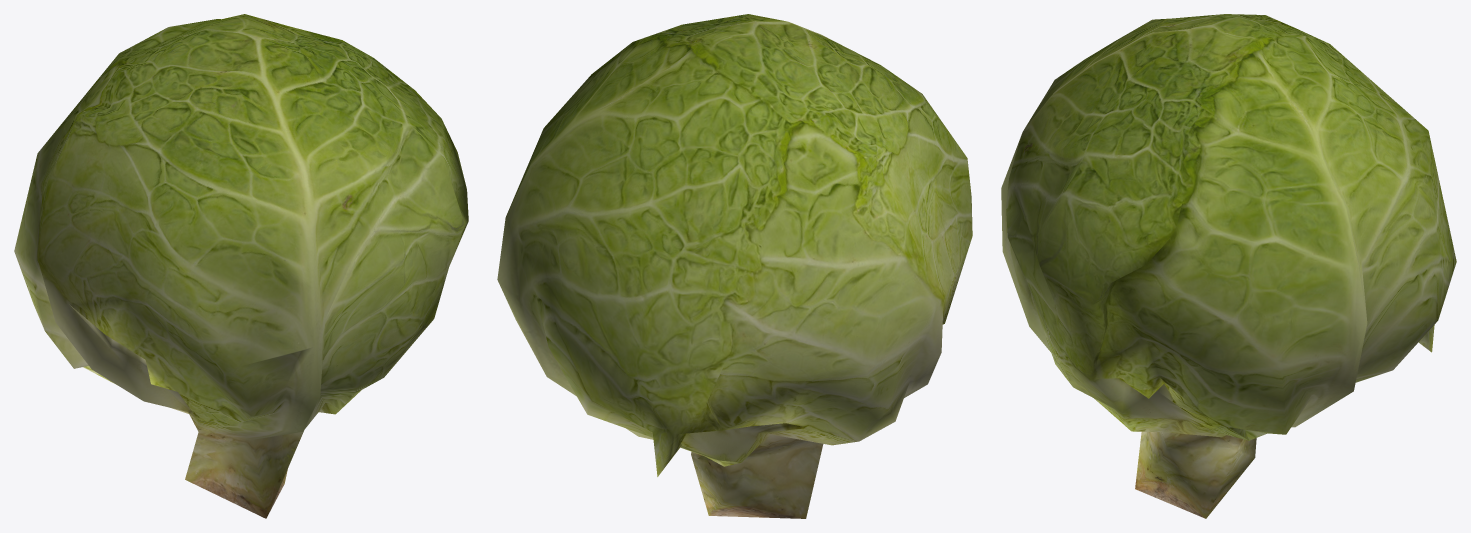
File: cabbage.glb
The picture shows the model from 3 angles, left to right: view 1: azimuth 30°, elevation 25°; view 2: azimuth 150°, elevation 25°; view 3: azimuth 270°, elevation 25°; orthographic projection. The views are drawn at different scales.
Parts seen in each view (by area): view 1: tgrmacdpa_LOD0_TIER3_000; view 2: tgrmacdpa_LOD0_TIER3_000; view 3: tgrmacdpa_LOD0_TIER3_000.
Part boxes in pixels (<box>): tgrmacdpa_LOD0_TIER3_000: <box>14,14,468,518</box>; tgrmacdpa_LOD0_TIER3_000: <box>497,14,972,518</box>; tgrmacdpa_LOD0_TIER3_000: <box>1001,14,1456,518</box>.
Size of the model in its own units: 0.129 by 0.1487 by 0.1299.
Materials: 1 (1 with a texture image).
